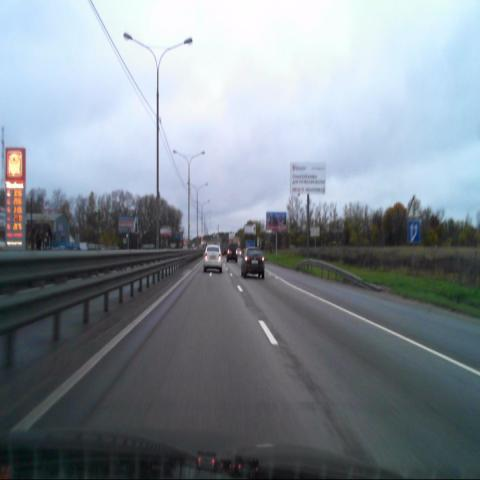2_3_2: (406, 195, 420, 218)
